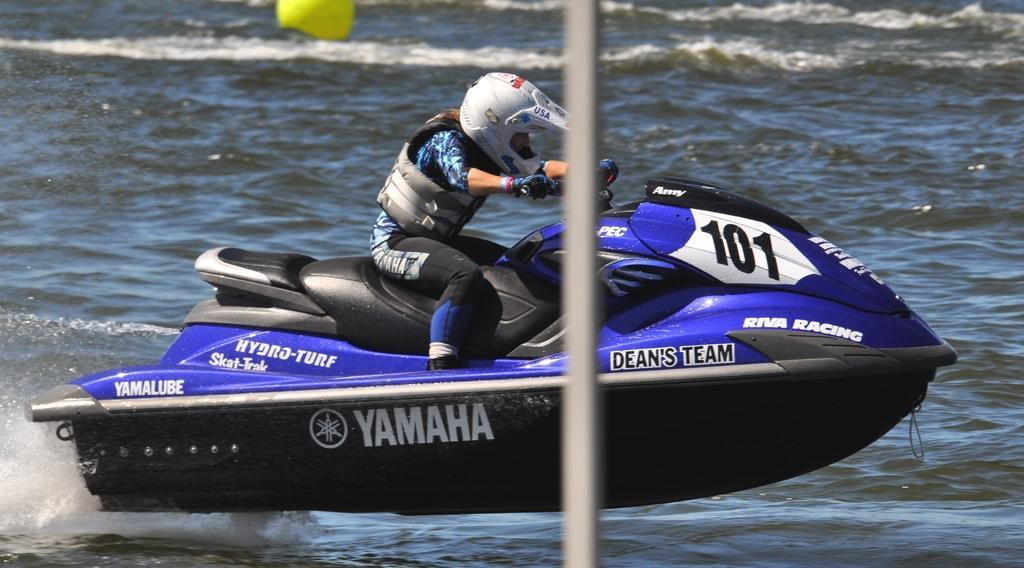helmet: (458, 71, 578, 180)
